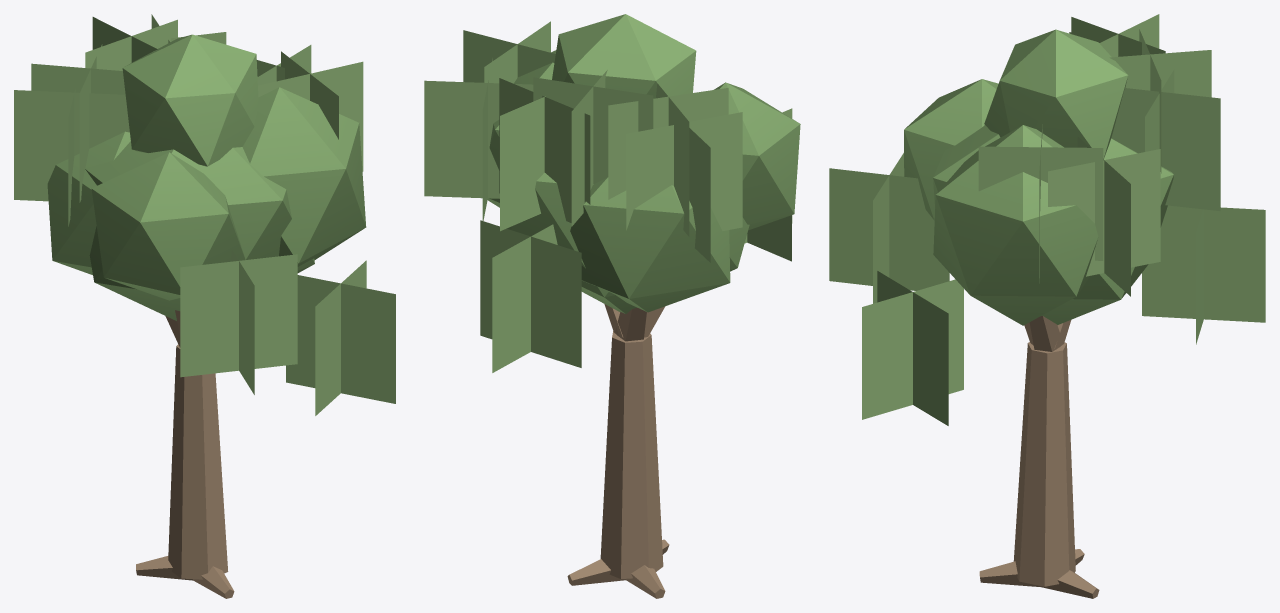
Rendered from tree_round_1.glb.
3 renders of one model, left to right at view 1: azimuth 30°, elevation 25°; view 2: azimuth 150°, elevation 25°; view 3: azimuth 270°, elevation 25°, orthographic. The views are drawn at different scales.
Visible parts, largest first — view 1: copa, racimos, tronco; view 2: racimos, copa, tronco; view 3: racimos, copa, tronco.
Boxes of the visible parts, x1=… form: copa: x1=47, y1=34, x2=366, y2=320; racimos: x1=14, y1=14, x2=395, y2=415; tronco: x1=136, y1=310, x2=234, y2=598; racimos: x1=424, y1=21, x2=792, y2=372; copa: x1=487, y1=14, x2=800, y2=313; tronco: x1=567, y1=304, x2=669, y2=598; racimos: x1=829, y1=14, x2=1265, y2=425; copa: x1=904, y1=29, x2=1173, y2=325; tronco: x1=979, y1=316, x2=1099, y2=598.
Size of the model in its own units: 1.73 by 3.04 by 2.17.
